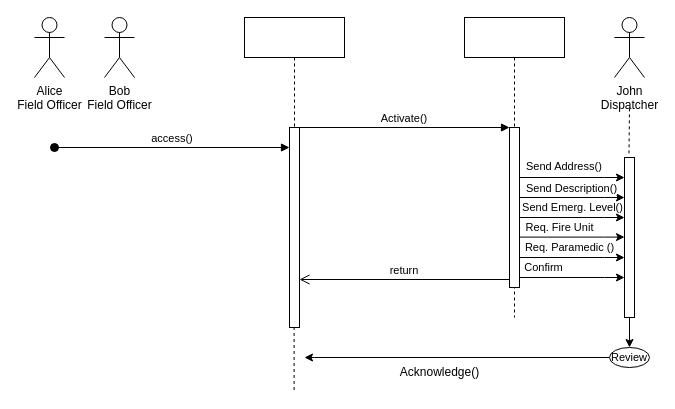
Image size: 675x409. Some labels were removed from this diagram. Here are the shapes that lost their labels. From the top down, the box of each, then its label:
(244, 16, 344, 328): :Friend
(464, 16, 564, 318): :Report Emerg.
